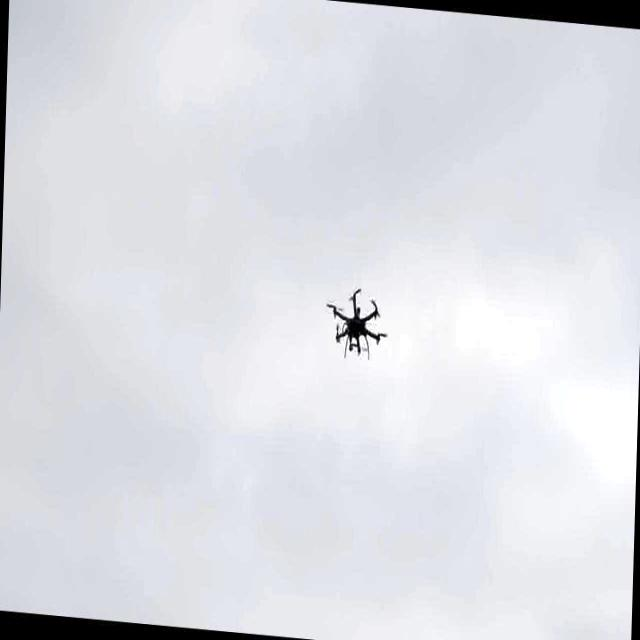drone: (325, 285, 386, 366)
